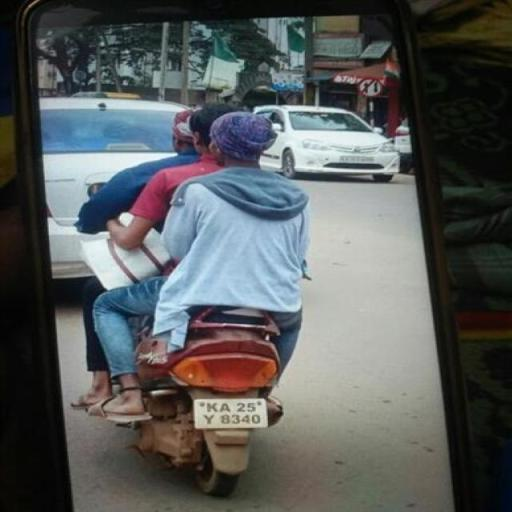tripple riding: (75, 90, 331, 288)
